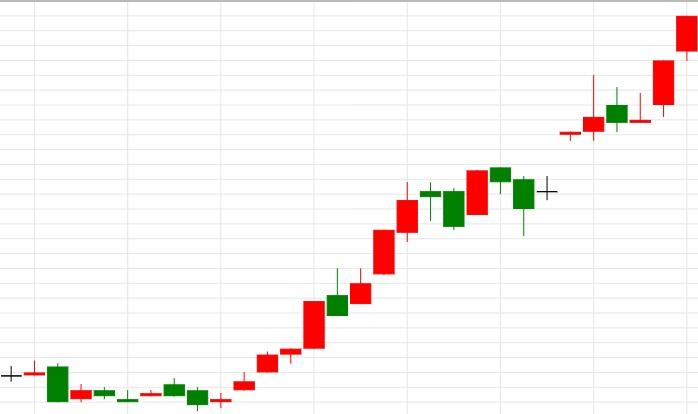evening_star_fall: (210, 181, 466, 409)
shooting_star_fall: (512, 75, 606, 235)
